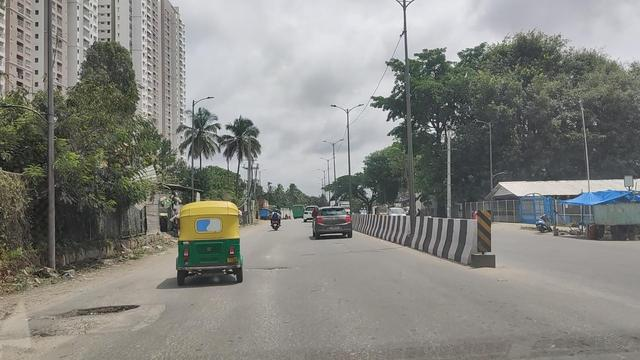LMV: (177, 201, 244, 286), (313, 208, 352, 236), (270, 208, 281, 229)
RoadDamages: (32, 302, 166, 339), (251, 262, 297, 280)
